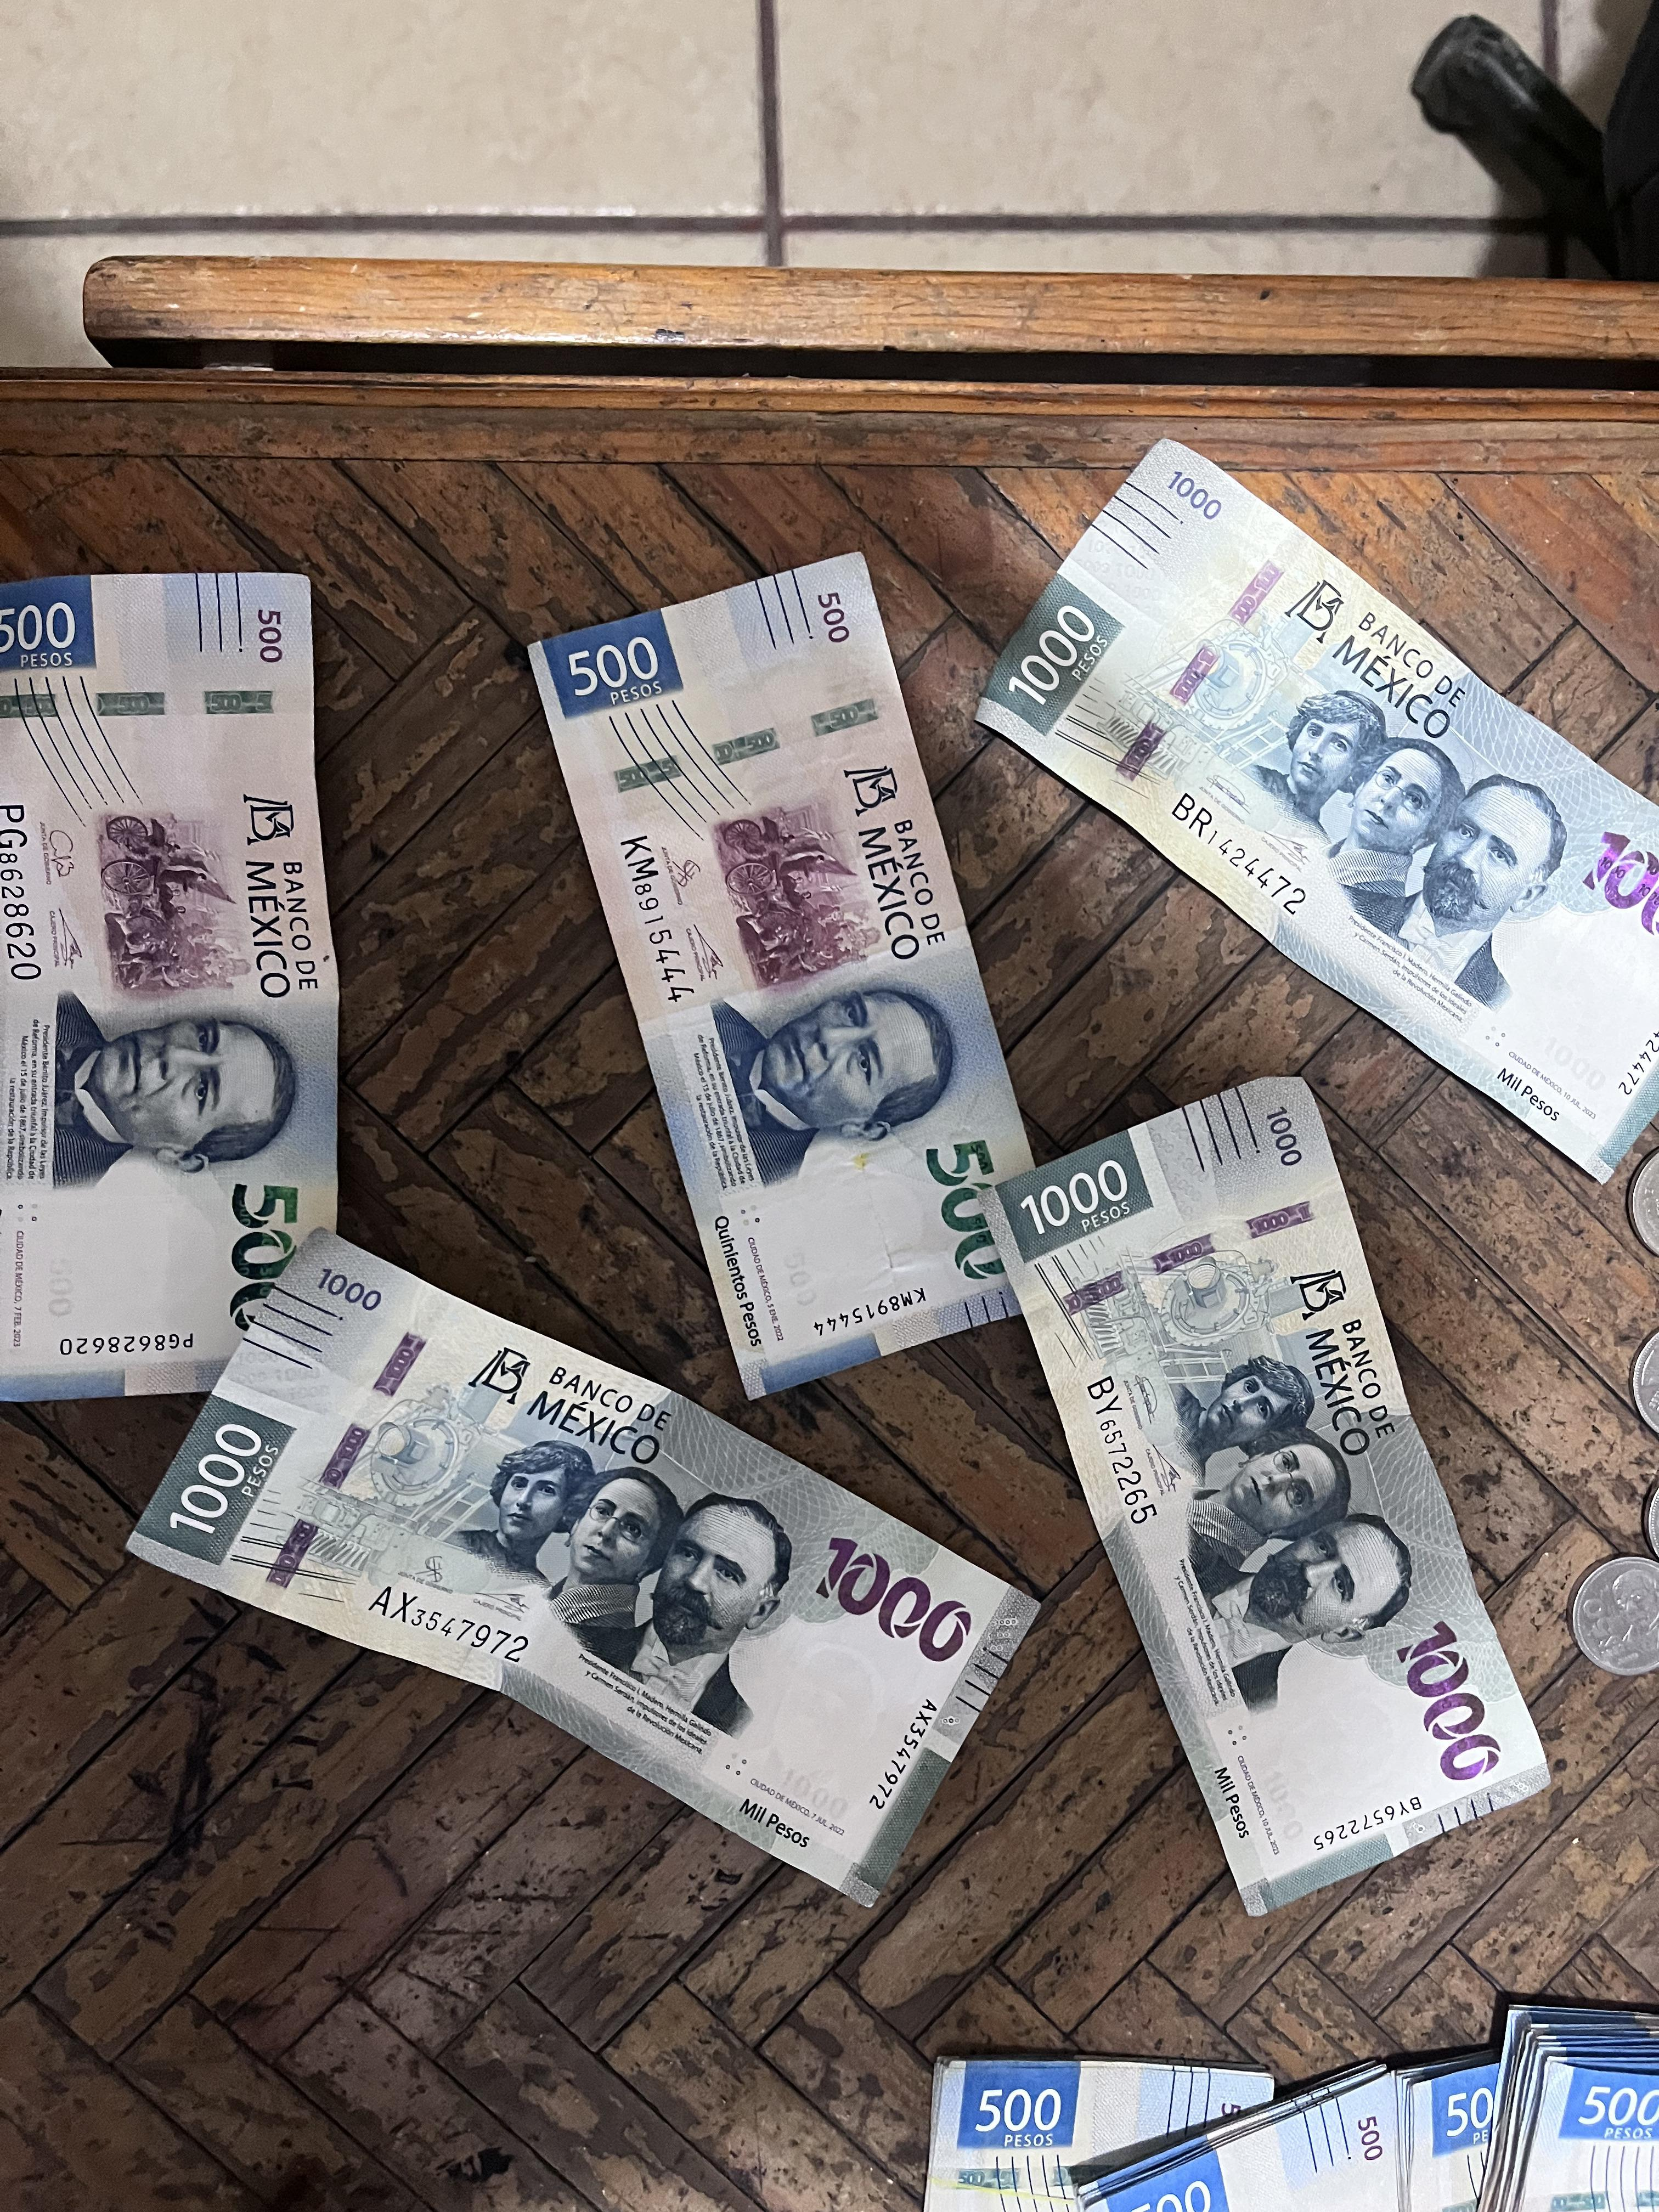1000: (110, 1230, 1051, 1926), (962, 425, 1659, 1197), (1004, 1062, 1574, 1944)
500 nuevo: (514, 535, 1112, 1421), (0, 573, 364, 1406), (1338, 2022, 1659, 2212), (936, 2062, 1269, 2212)
